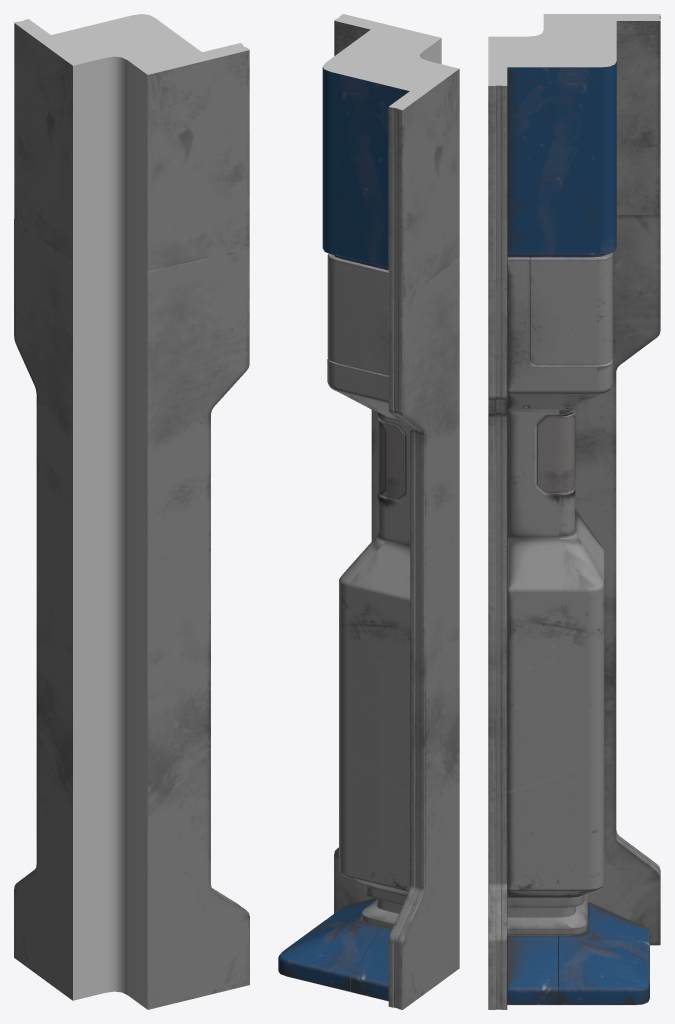
File: SM_CorridorWall03_bigCorner02.fbx
3 views of the same model, side by side, from view 1: azimuth 30°, elevation 25°; view 2: azimuth 150°, elevation 25°; view 3: azimuth 270°, elevation 25° (orthographic). The views are drawn at different scales.
Parts seen in each view (by area): view 1: SM_CorridorWall03_bigCorner02_LOD0; view 2: SM_CorridorWall03_bigCorner02_LOD0; view 3: SM_CorridorWall03_bigCorner02_LOD0.
Part boxes in pixels (bbox=[...]): SM_CorridorWall03_bigCorner02_LOD0: bbox=[14, 14, 249, 1009]; SM_CorridorWall03_bigCorner02_LOD0: bbox=[278, 14, 459, 1009]; SM_CorridorWall03_bigCorner02_LOD0: bbox=[488, 14, 660, 1009].
Size of the model in its own units: 80.68 by 81.67 by 483.
3 materials, 2 textured.
